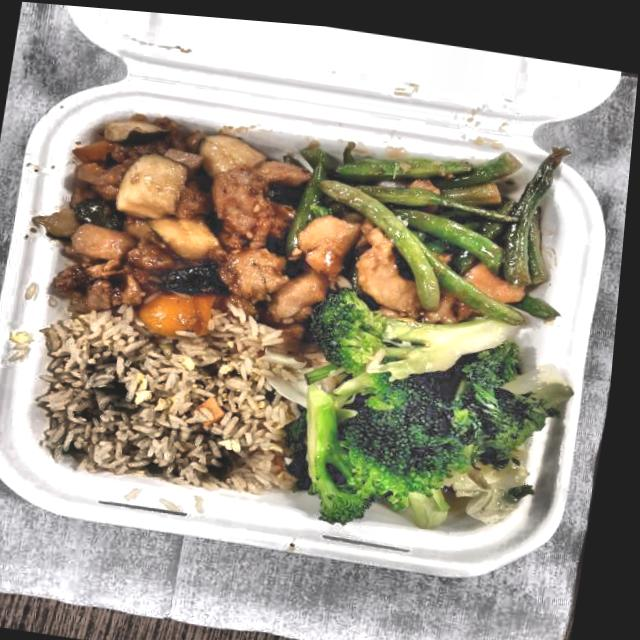Food: (29, 93, 333, 346), (282, 297, 577, 537), (277, 111, 581, 342), (30, 290, 324, 506)
